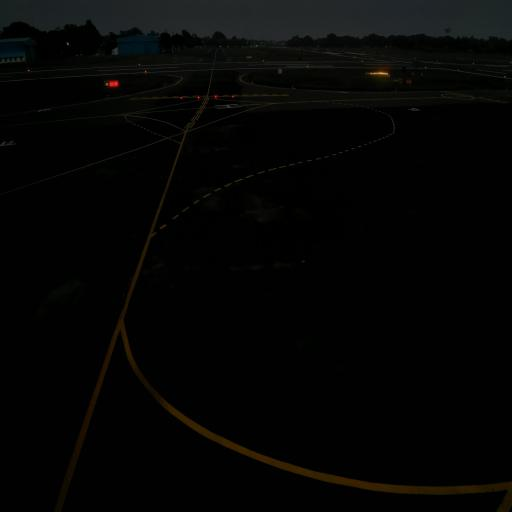on: (179, 94, 184, 102), (196, 94, 200, 101), (214, 94, 218, 101), (232, 93, 234, 99)
